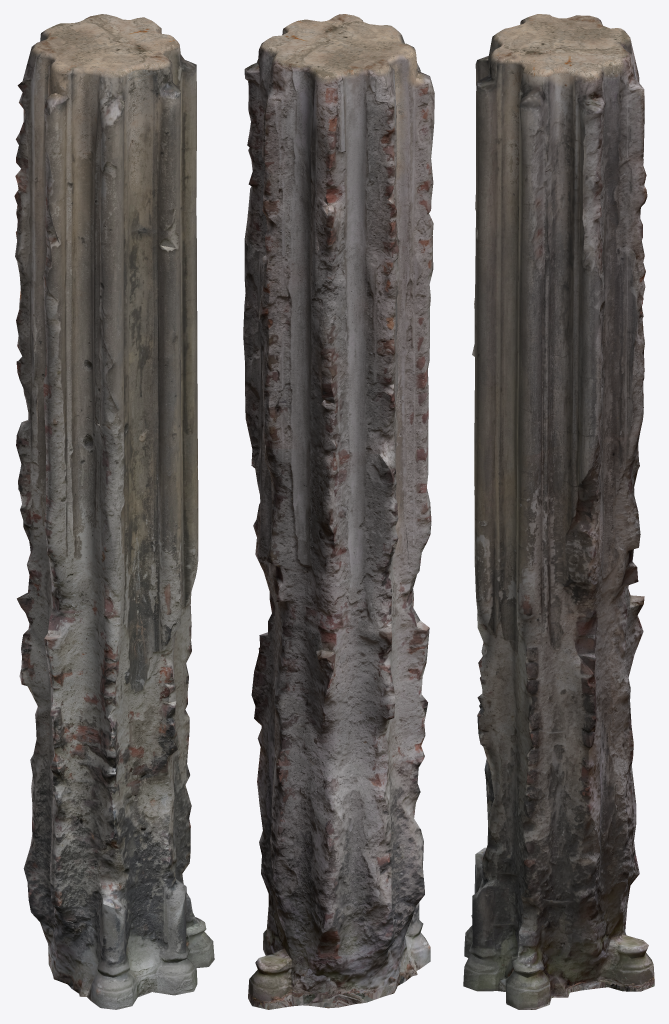
The model's file is sm_ChapelColumn_02_02.fbx.
The picture shows the model from 3 angles, left to right: view 1: azimuth 30°, elevation 25°; view 2: azimuth 150°, elevation 25°; view 3: azimuth 270°, elevation 25°; orthographic projection.
Parts seen in each view (by area): view 1: sm_ChapelColumn_02_02_LOD0; view 2: sm_ChapelColumn_02_02_LOD0; view 3: sm_ChapelColumn_02_02_LOD0.
Boxes of the visible parts, x1,y1,x2,y2 form: sm_ChapelColumn_02_02_LOD0: (14, 14, 214, 1009); sm_ChapelColumn_02_02_LOD0: (243, 14, 434, 1009); sm_ChapelColumn_02_02_LOD0: (463, 14, 654, 1009).
Size of the model in its own units: 72.34 by 72.53 by 386.
